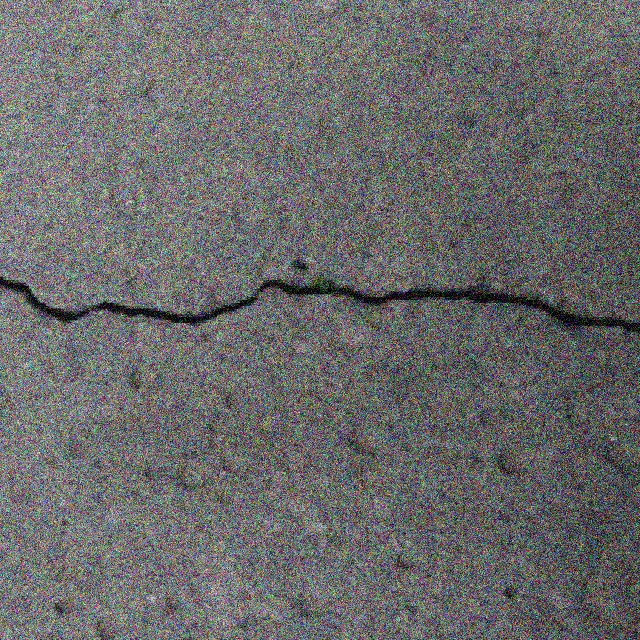SurfaceCrack: (4, 244, 640, 364)
